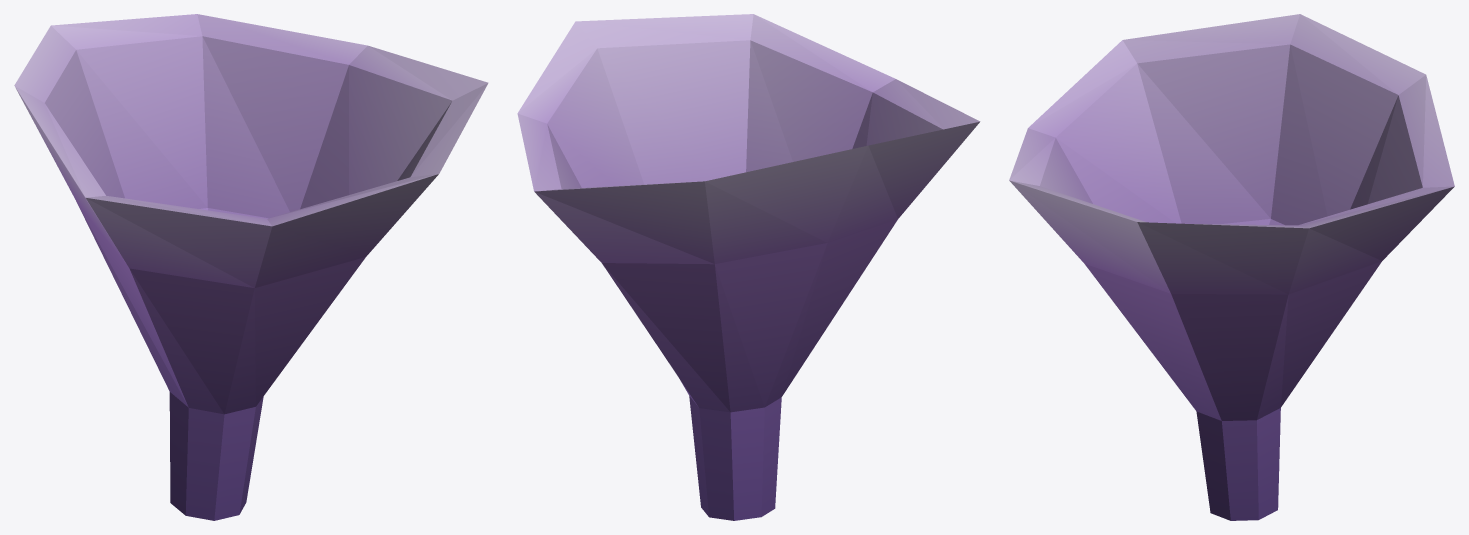
The model's file is coral-vase.glb.
3 renders of one model, left to right at view 1: azimuth 30°, elevation 25°; view 2: azimuth 150°, elevation 25°; view 3: azimuth 270°, elevation 25°, orthographic. The views are drawn at different scales.
Visible parts, largest first — view 1: coral-vase_mesh; view 2: coral-vase_mesh; view 3: coral-vase_mesh.
Boxes of the visible parts, left/top/right/bottom form: coral-vase_mesh: left=14, top=14, right=488, bottom=520; coral-vase_mesh: left=517, top=14, right=980, bottom=520; coral-vase_mesh: left=1009, top=14, right=1454, bottom=520.
Size of the model in its own units: 0.5913 by 0.6028 by 0.5846.
